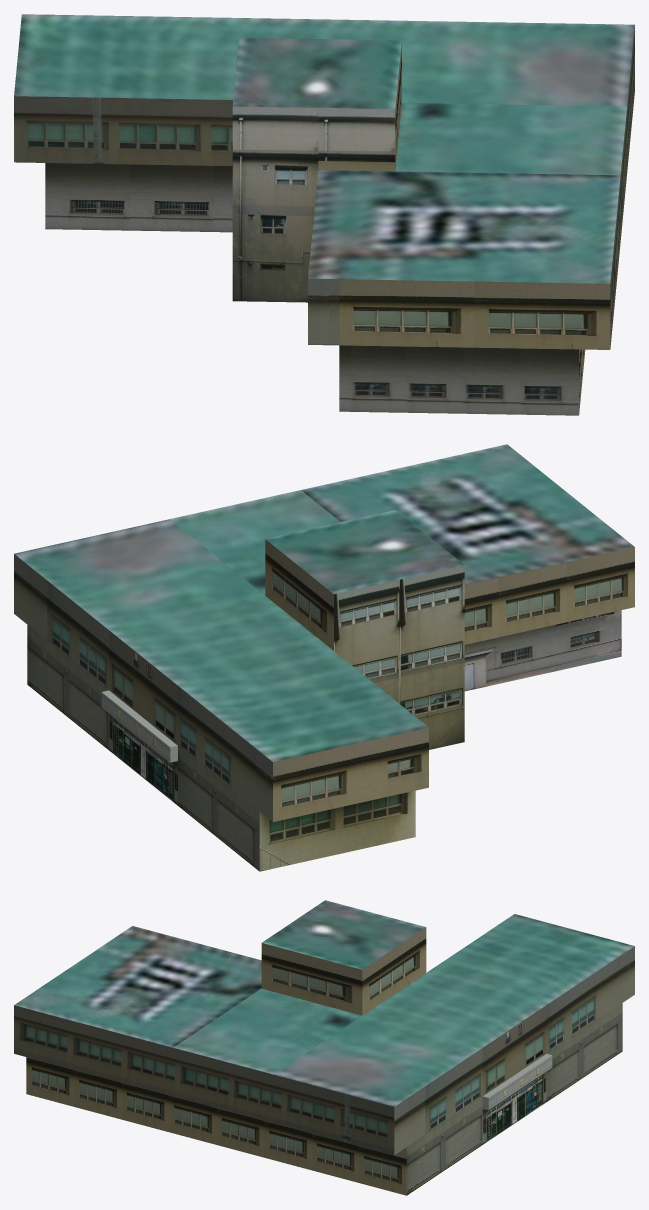
3 renders of one model, top to bottom at view 1: azimuth 30°, elevation 25°; view 2: azimuth 150°, elevation 25°; view 3: azimuth 270°, elevation 25°, orthographic. The views are drawn at different scales.
Visible parts, largest first — view 1: SketchUp (×11); view 2: SketchUp (×20); view 3: SketchUp (×14).
Boxes of the visible parts, <box> form: SketchUp (×11): <box>14,14,634,415</box>; SketchUp (×20): <box>14,444,634,871</box>; SketchUp (×14): <box>14,900,634,1195</box>.
Bounding box in the file's own units: 1174 × 1597 × 406.
Materials: 28 (26 with a texture image).
